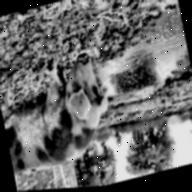boar: (0, 46, 118, 179)
